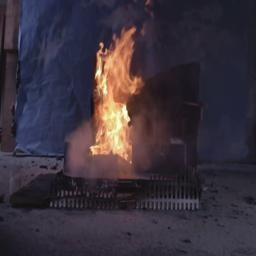fire: (91, 22, 139, 164)
